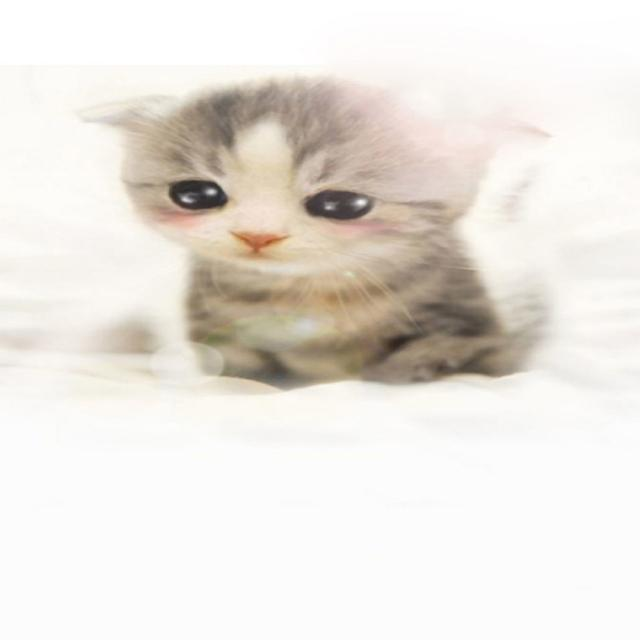Scottish Fold: (65, 54, 570, 406)
